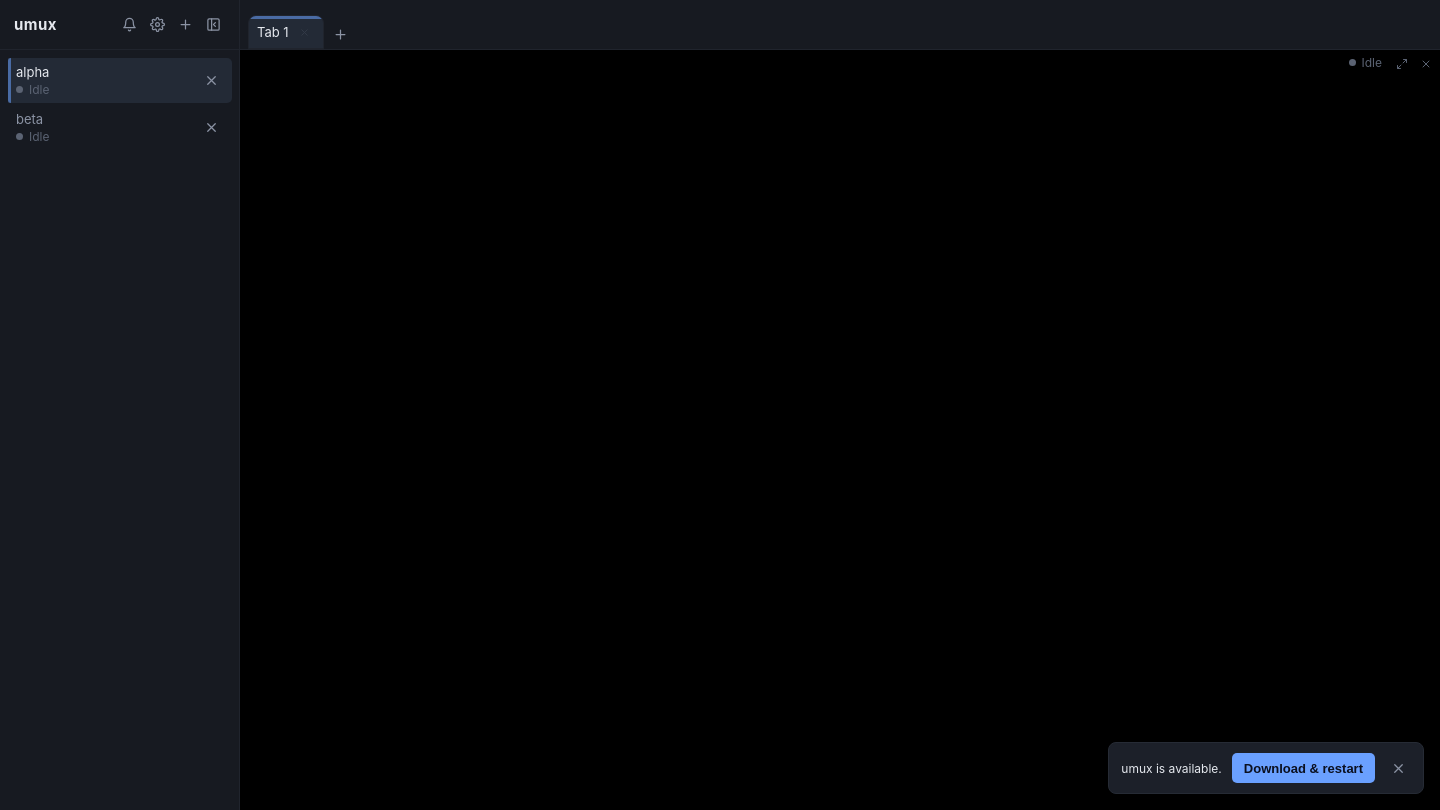
WorkspaceShell › confirming the row × deletes the workspace entirely and persists
Click the button named "delete alpha" at (211, 80), box [198,68,224,94]
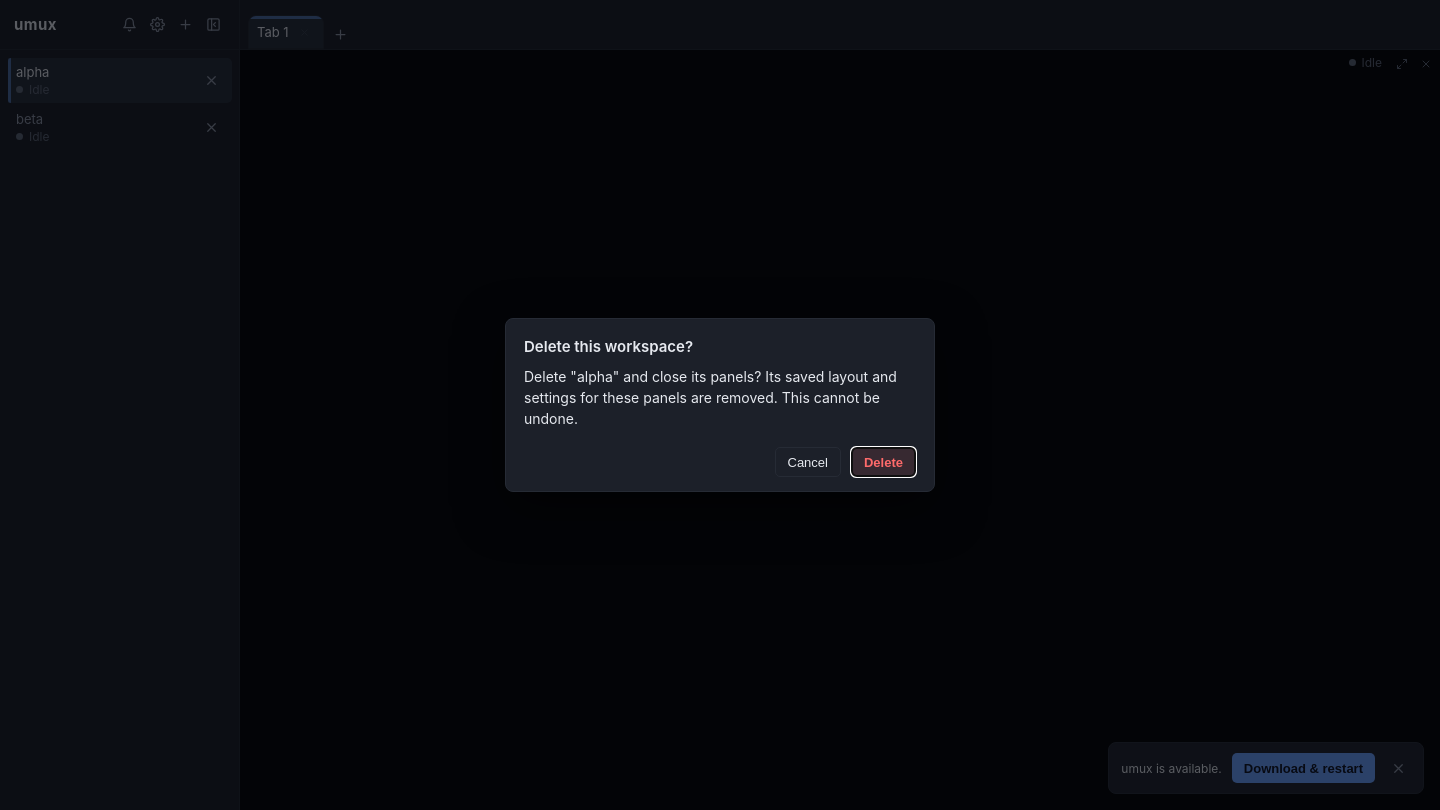
Click the button "Delete" at (884, 462), box [851,447,916,477]
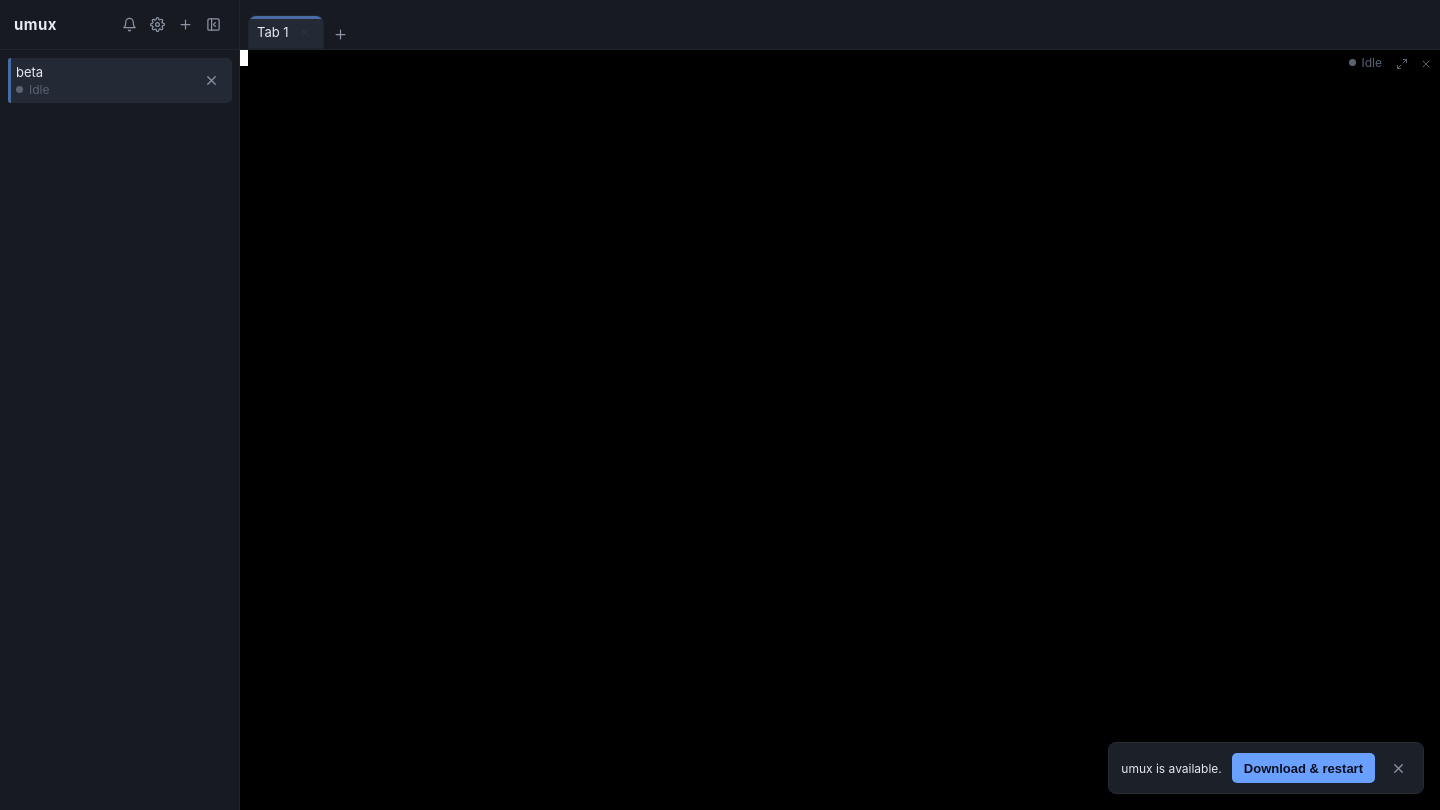
Expected: the text "alpha" is gone
Expected: the element with test id "panel-ws-1" is gone
